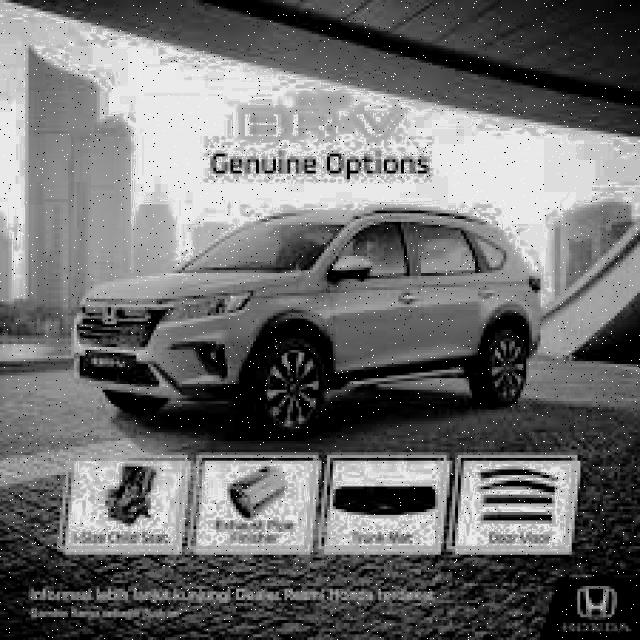Car: (67, 194, 553, 421)
